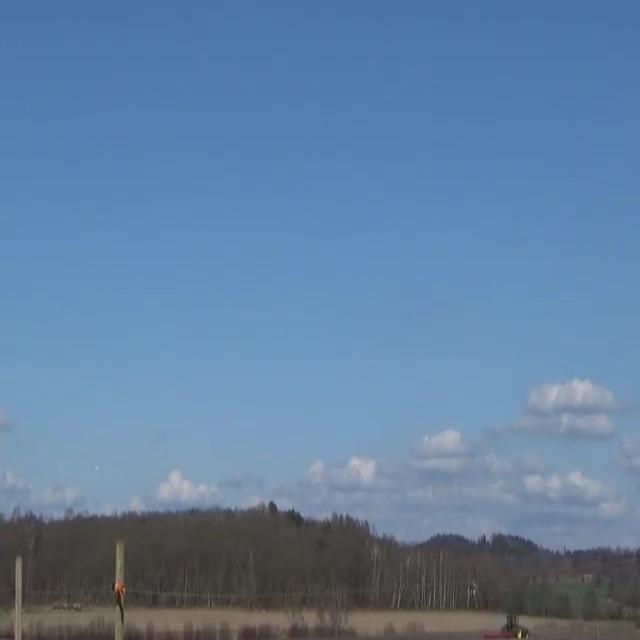Drone: (86, 456, 107, 479)
